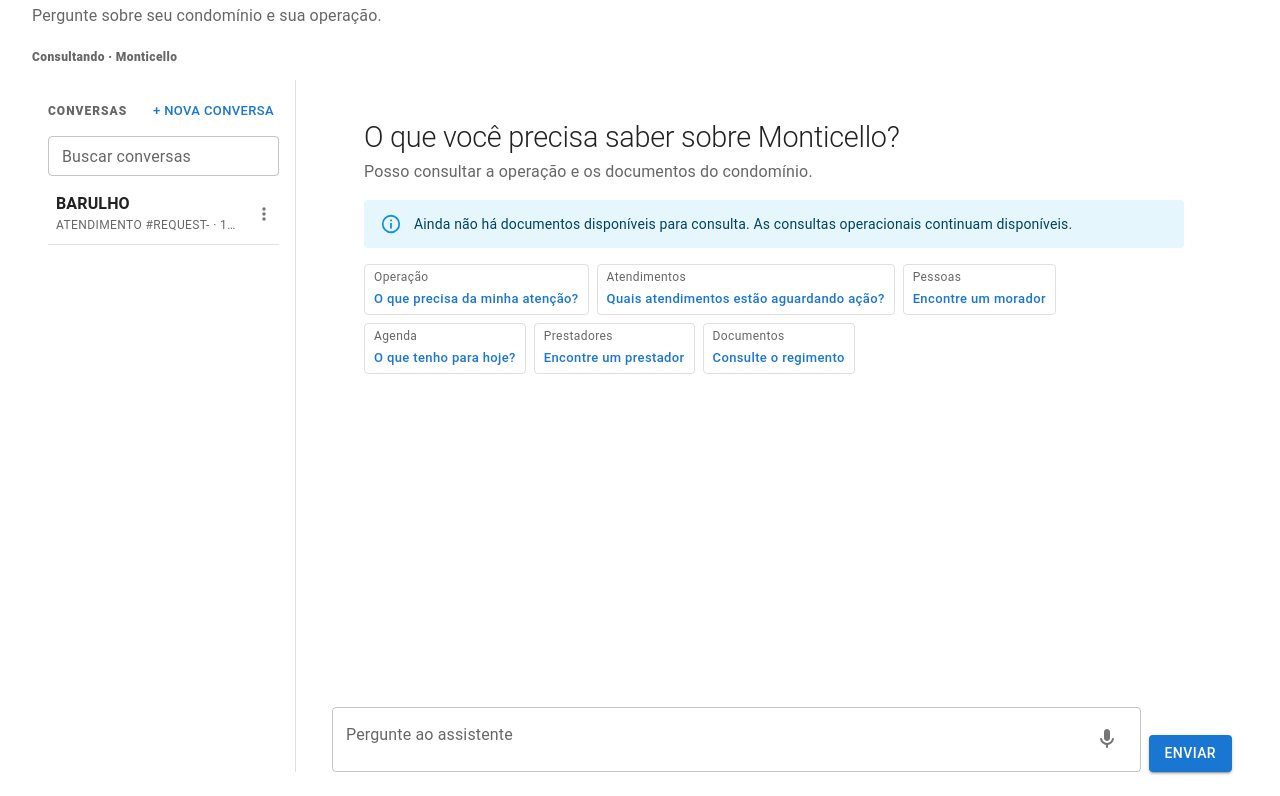
Test case: CondominiumAssistantPage › reopens persisted messages with historical sources
(page scrolled)
Click the button "Barulho Atendimento #request- · 17/08/2026" at (148, 214), box [48,184,247,244]
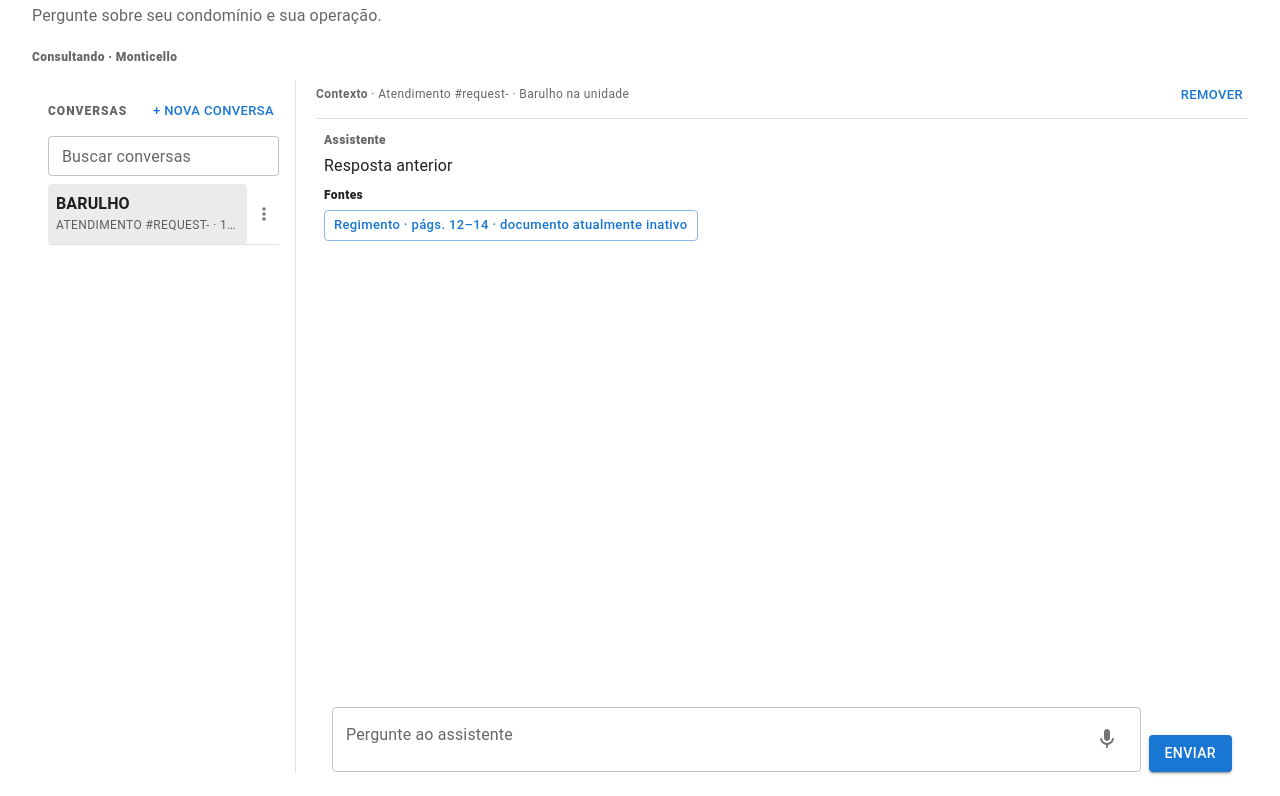
Result: the text "Resposta anterior" is shown at [324,156,452,175]
Result: the button "Regimento · págs. 12–14 · documento atualmente inativo" is shown at [324,210,698,241]
